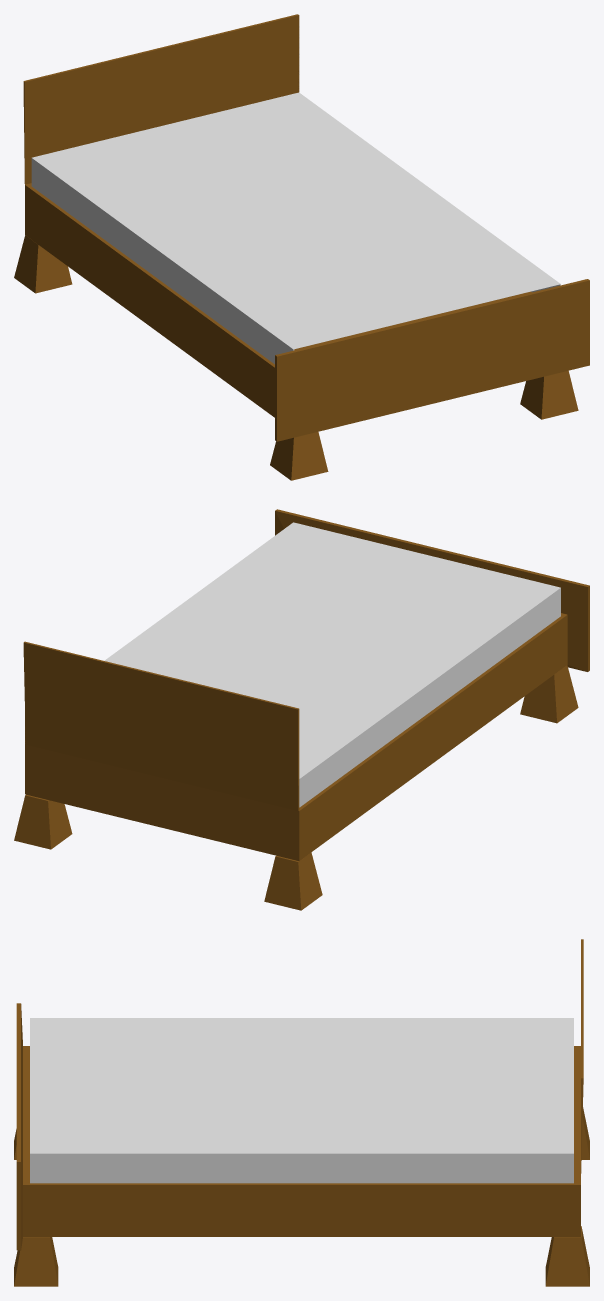
File: Bed 1.fbx
3 renders of one model, top to bottom at view 1: azimuth 30°, elevation 25°; view 2: azimuth 150°, elevation 25°; view 3: azimuth 270°, elevation 25°, orthographic. The views are drawn at different scales.
Parts seen in each view (by area): view 1: mattrerss, Wooden box, Legs; view 2: Wooden box, mattrerss, Legs; view 3: mattrerss, Wooden box, Legs.
Part boxes in pixels (box(x1,y1,x2,y2)): mattrerss: box(31, 92, 560, 364); Wooden box: box(23, 14, 589, 441); Legs: box(14, 235, 578, 480); Wooden box: box(23, 509, 589, 860); mattrerss: box(104, 522, 560, 807); Legs: box(14, 665, 578, 910); mattrerss: box(30, 1018, 573, 1183); Wooden box: box(16, 939, 583, 1250); Legs: box(14, 1107, 589, 1286).
Size of the model in its own units: 339 by 205 by 521.
